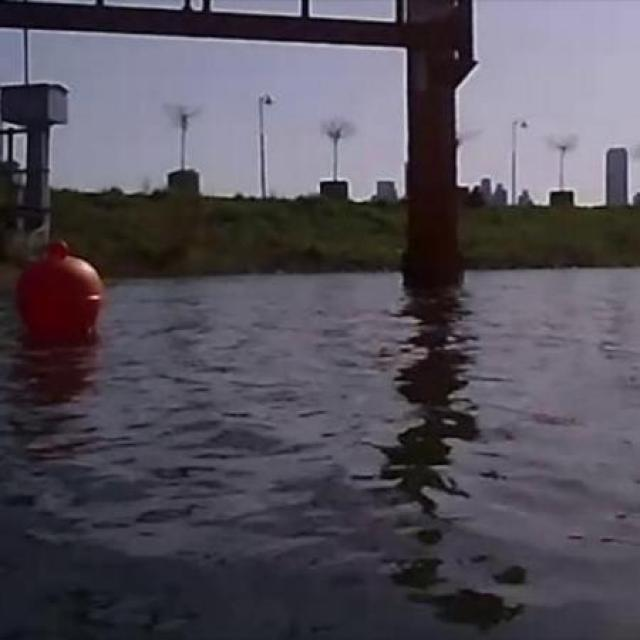buoy: (18, 240, 107, 343)
